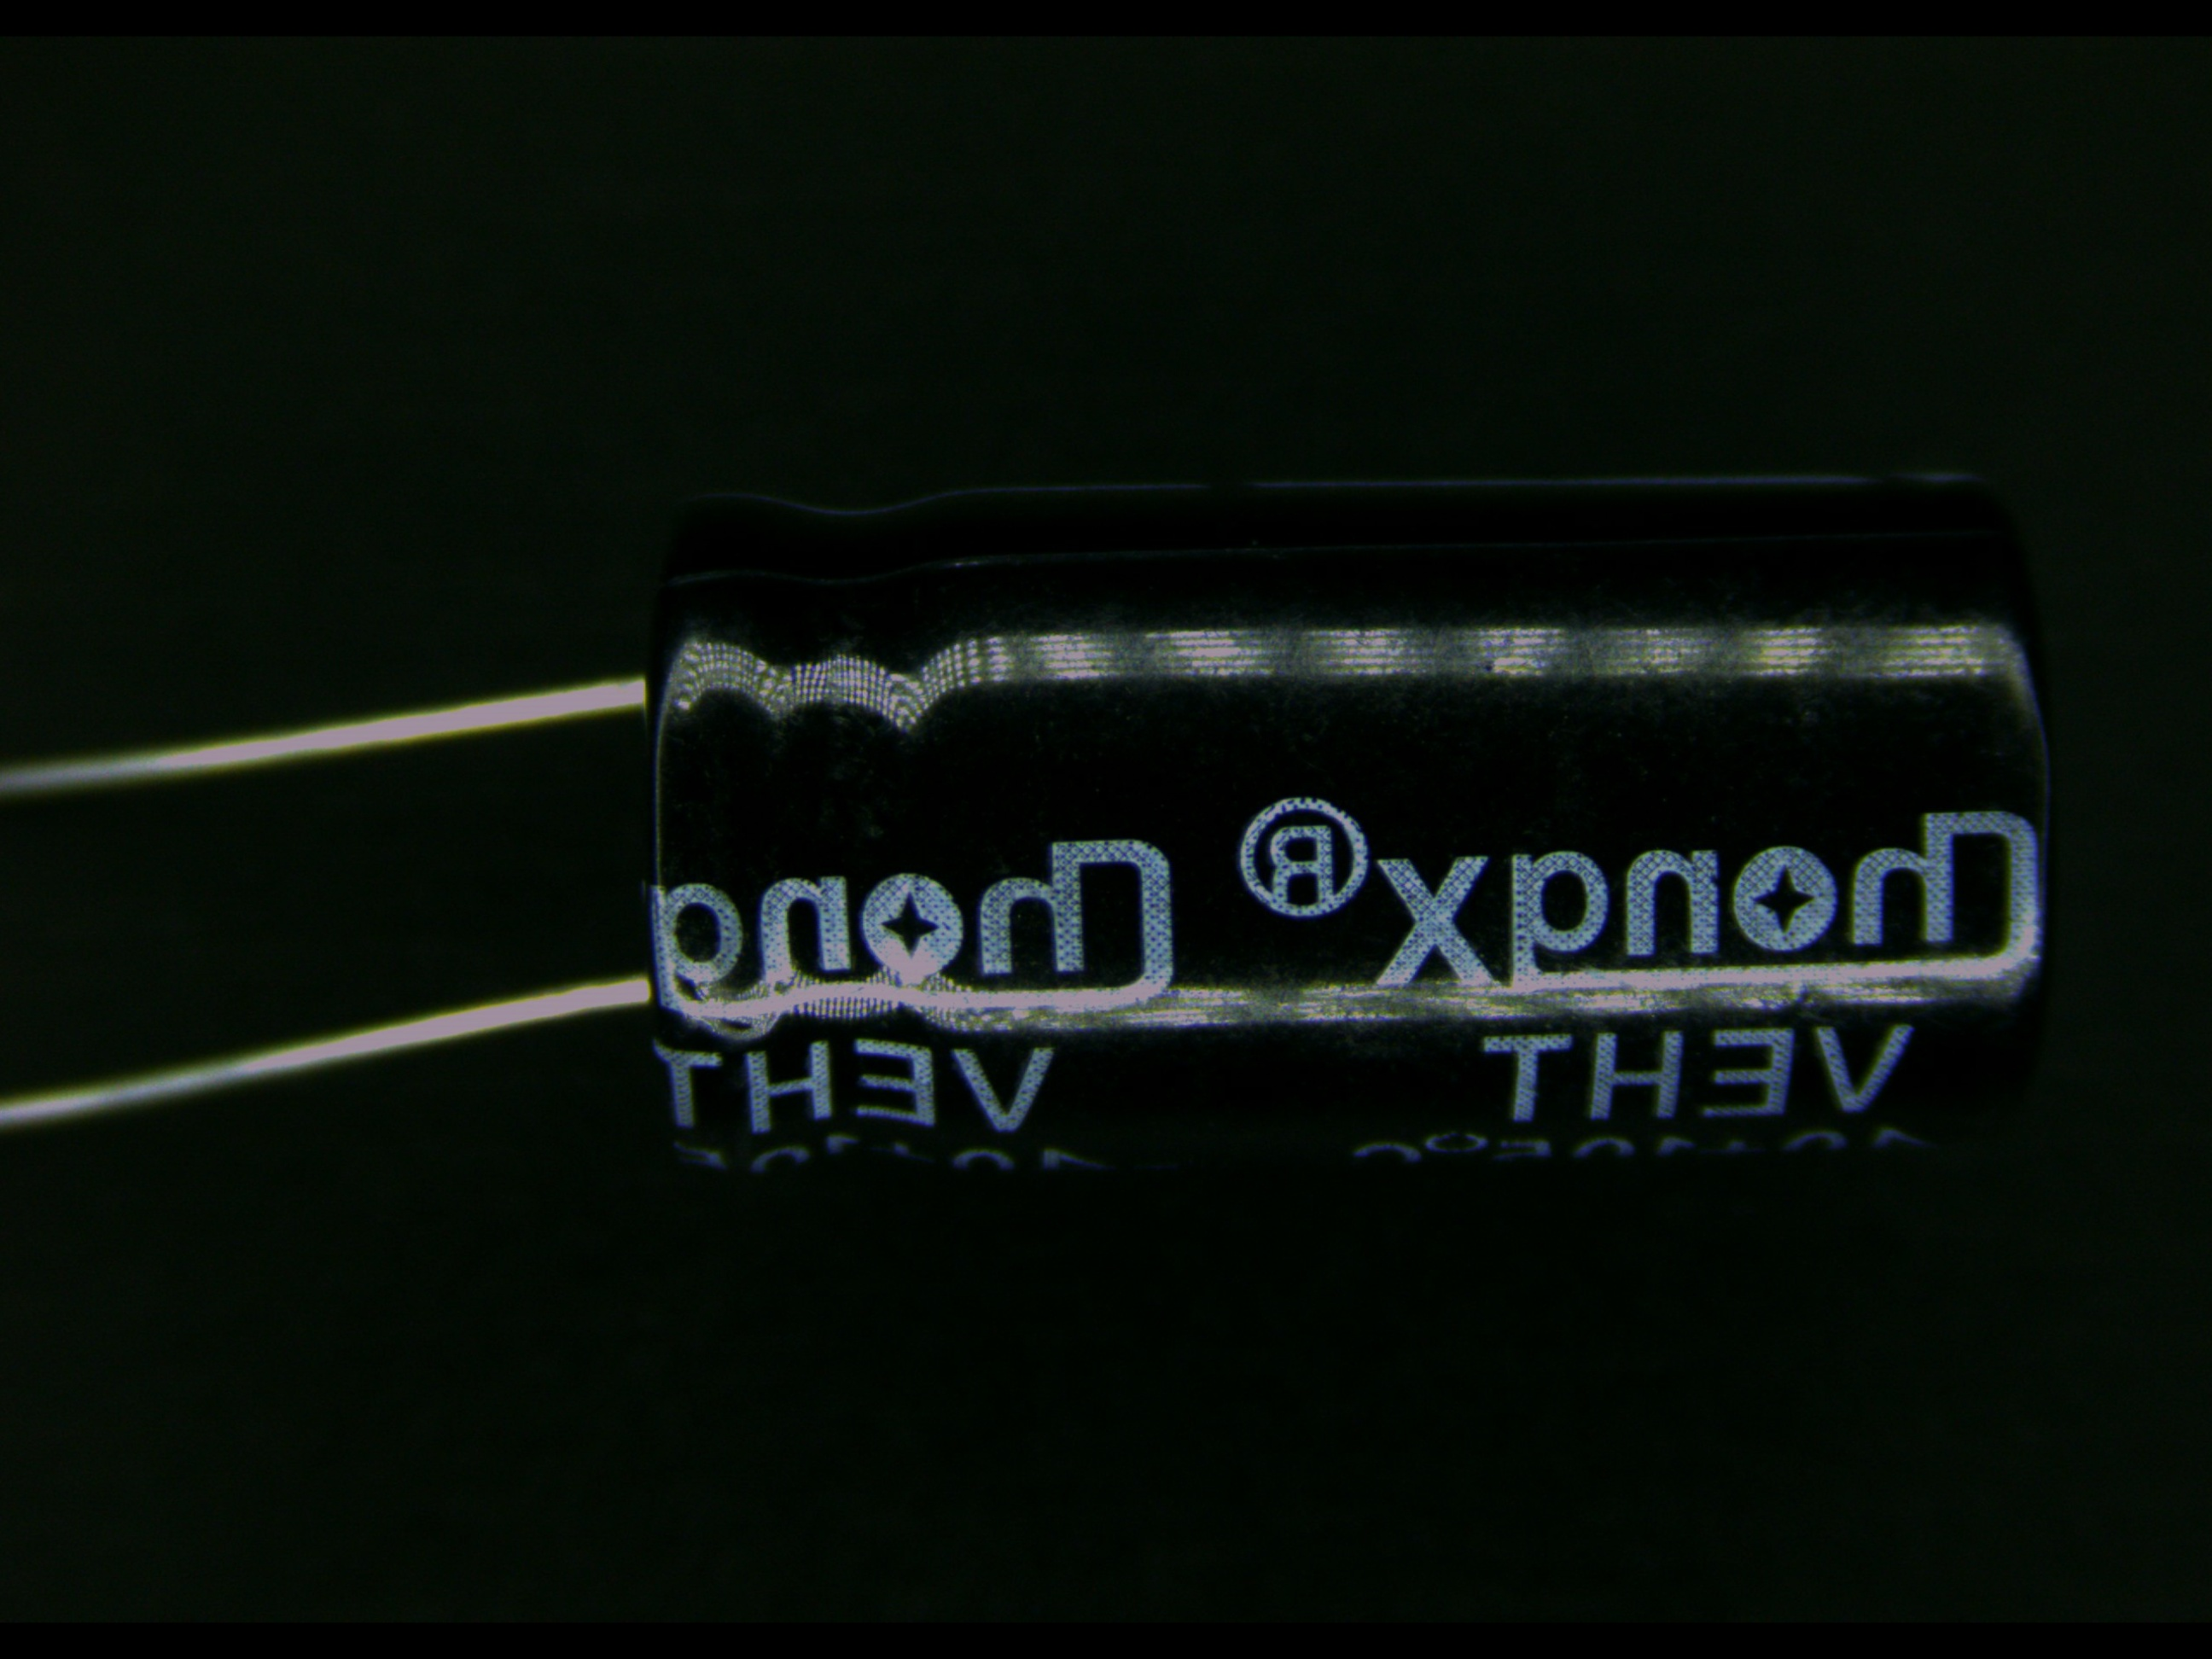c3: (385, 472, 2064, 1183)
